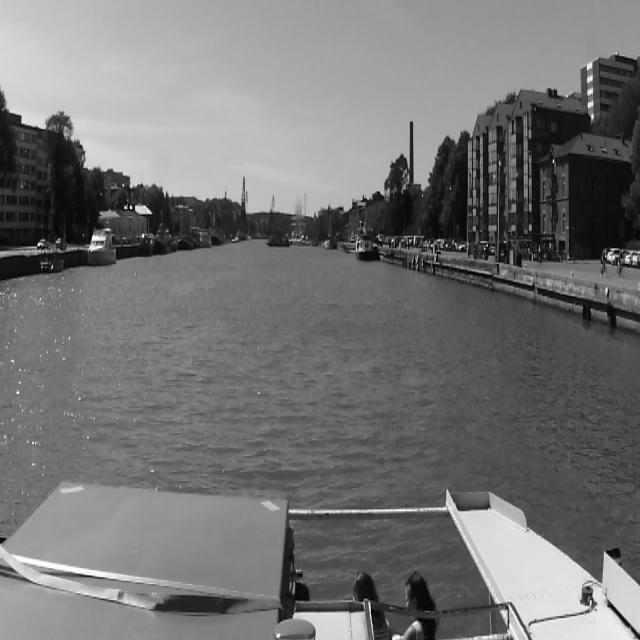ship: (87, 229, 117, 263), (155, 222, 178, 252), (356, 237, 378, 260), (40, 256, 64, 272), (266, 233, 292, 247), (326, 236, 336, 250)
